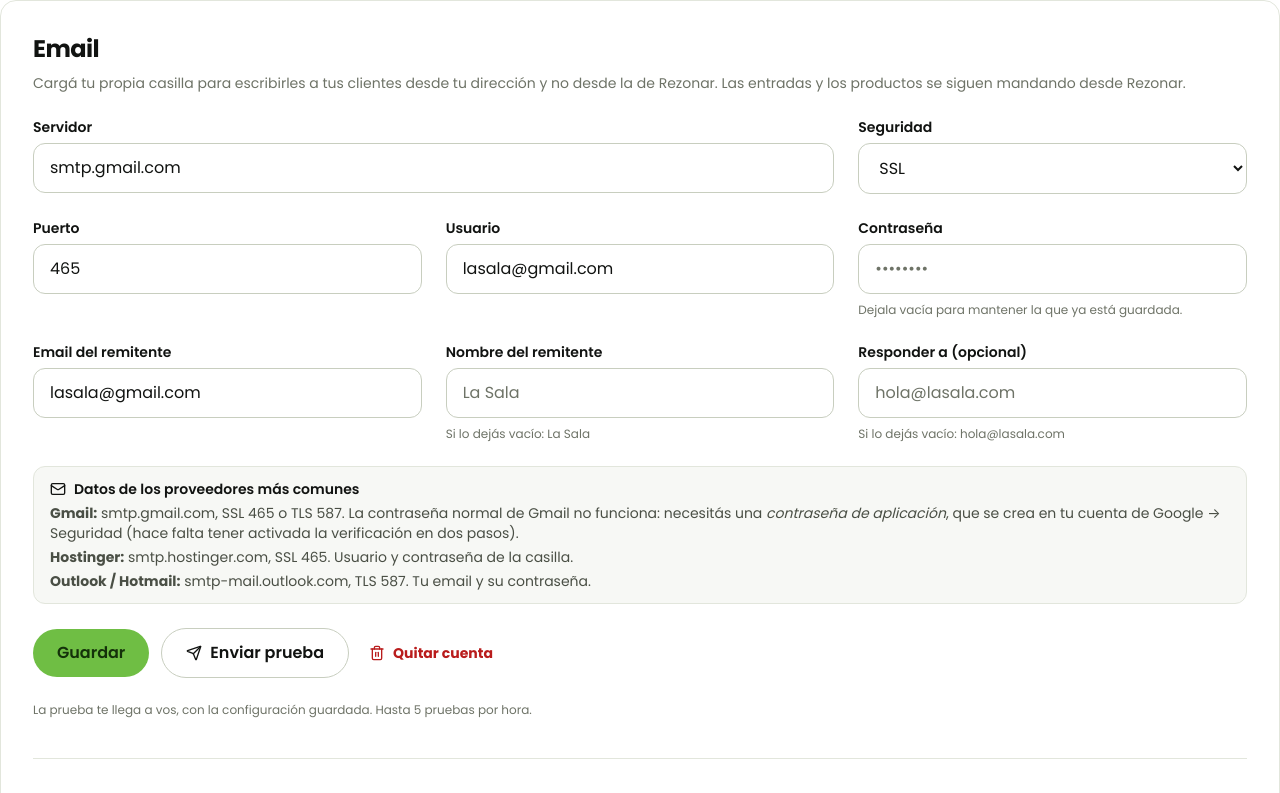
it: SeccionEmail › con una cuenta guardada, la contraseña vacía conserva la anterior
The image size is (1280, 793).
Expected: the field labelled "Servidor" holds "smtp.gmail.com", [33, 143, 834, 193]
Expected: the password field labelled "Contraseña" is empty, [858, 244, 1247, 294]
Click the button "Guardar".
click(91, 653)  # box [33, 629, 149, 677]
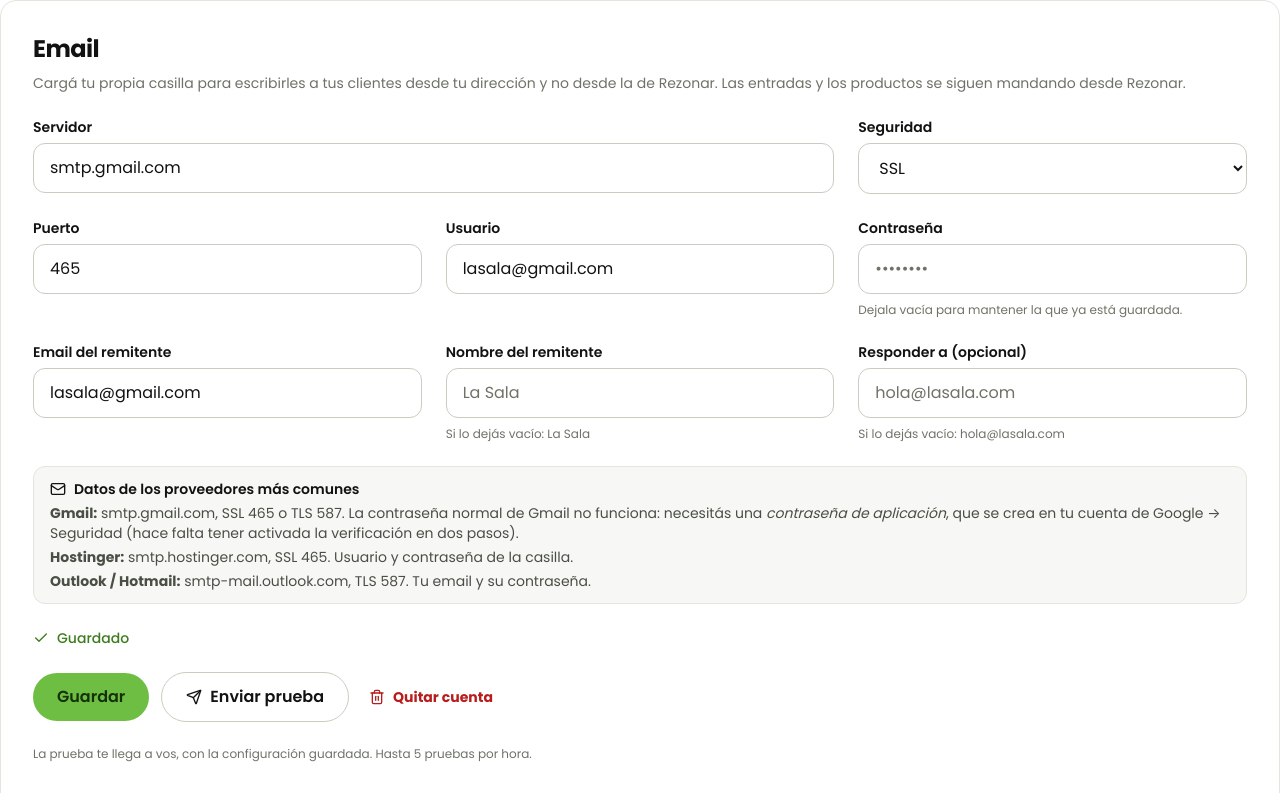
Now the text "Guardado" is shown, box [33, 628, 129, 648]
